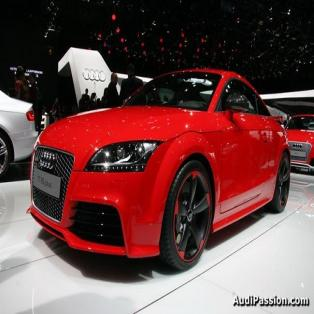Auto: (25, 68, 290, 272)
